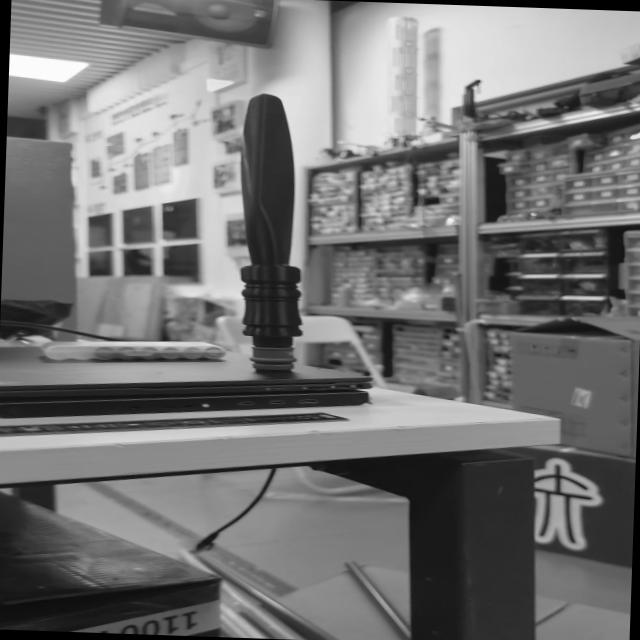base: (245, 341, 305, 378)
